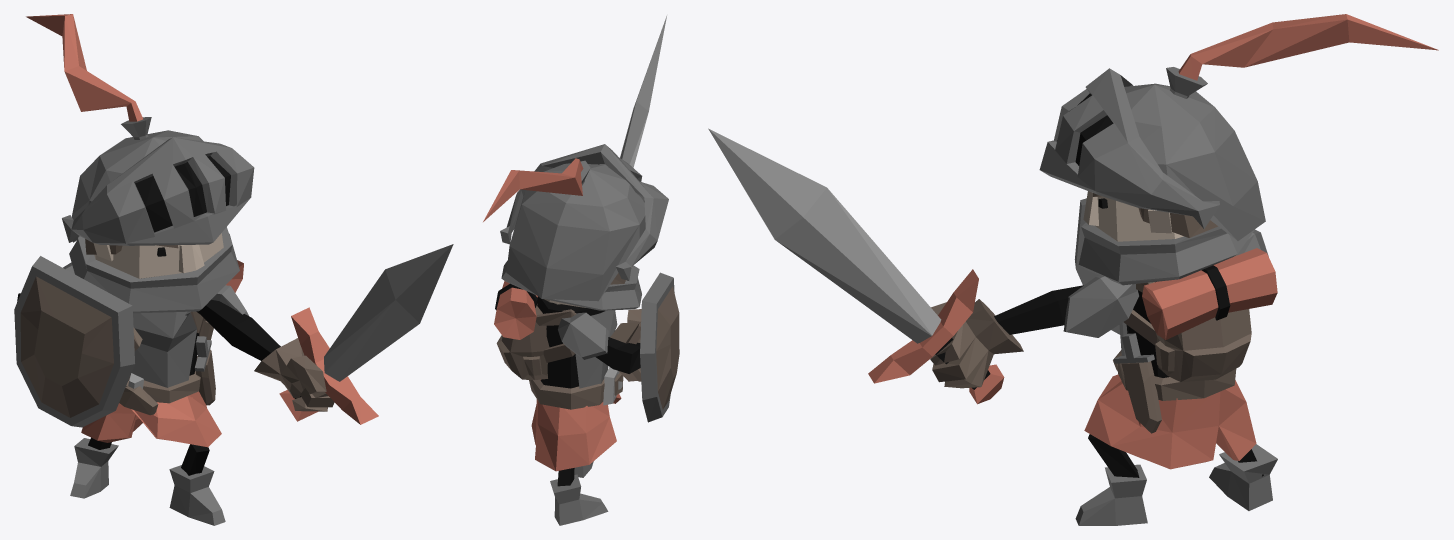
Rendered from redGuy.fbx.
3 renders of one model, left to right at view 1: azimuth 30°, elevation 25°; view 2: azimuth 150°, elevation 25°; view 3: azimuth 270°, elevation 25°, orthographic. The views are drawn at different scales.
Parts seen in each view (by area): view 1: pPlane2_dark_metal_0__ID38, pPlane2_brown_0__ID26, pPlane2_red_0__ID119, pPlane2_light_metal_0__ID73, pPlane2_lambert2_0__ID50, pPlane2_skin_0__ID96; view 2: pPlane2_dark_metal_0__ID38, pPlane2_red_0__ID119, pPlane2_brown_0__ID26, pPlane2_lambert2_0__ID50, pPlane2_light_metal_0__ID73; view 3: pPlane2_dark_metal_0__ID38, pPlane2_red_0__ID119, pPlane2_light_metal_0__ID73, pPlane2_brown_0__ID26, pPlane2_lambert2_0__ID50, pPlane2_skin_0__ID96.
Boxes of the visible parts, box(x1,y1,x2,y2) form: pPlane2_dark_metal_0__ID38: box(14, 117, 254, 525); pPlane2_brown_0__ID26: box(20, 239, 334, 417); pPlane2_red_0__ID119: box(26, 14, 378, 447); pPlane2_light_metal_0__ID73: box(119, 244, 453, 403); pPlane2_lambert2_0__ID50: box(17, 156, 300, 475); pPlane2_skin_0__ID96: box(93, 233, 223, 278); pPlane2_dark_metal_0__ID38: box(500, 144, 674, 525); pPlane2_red_0__ID119: box(483, 158, 621, 471); pPlane2_brown_0__ID26: box(496, 273, 679, 409); pPlane2_lambert2_0__ID50: box(495, 283, 640, 486); pPlane2_light_metal_0__ID73: box(603, 16, 666, 405); pPlane2_dark_metal_0__ID38: box(1039, 67, 1277, 525); pPlane2_red_0__ID119: box(868, 14, 1438, 469); pPlane2_light_metal_0__ID73: box(708, 128, 941, 343); pPlane2_brown_0__ID26: box(930, 193, 1251, 433); pPlane2_lambert2_0__ID50: box(935, 93, 1263, 477); pPlane2_skin_0__ID96: box(1083, 191, 1183, 241).
Size of the model in its own units: 187 by 368 by 492.
